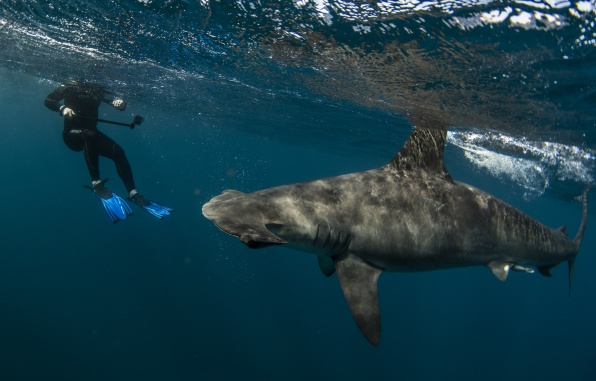Hammer: (171, 97, 596, 352)
